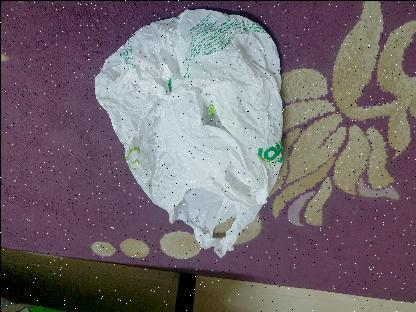Others: (92, 4, 286, 260)
